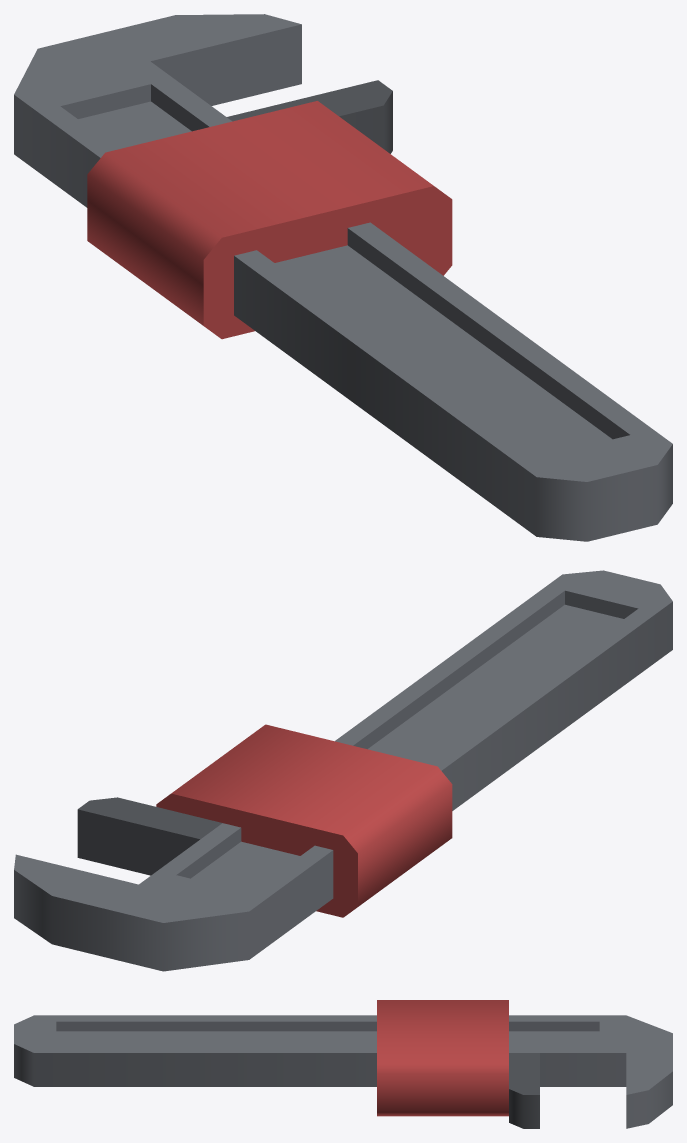
File: wrench.fbx
3 renders of one model, top to bottom at view 1: azimuth 30°, elevation 25°; view 2: azimuth 150°, elevation 25°; view 3: azimuth 270°, elevation 25°, orthographic. The views are drawn at different scales.
Parts seen in each view (by area): view 1: Plane.002; view 2: Plane.002; view 3: Plane.002.
Part boxes in pixels (bbox=[...]): Plane.002: bbox=[14, 14, 672, 541]; Plane.002: bbox=[14, 570, 672, 971]; Plane.002: bbox=[14, 1000, 672, 1128].
Bounding box in the file's own units: 0.1718 × 0.0523 × 0.5434.
